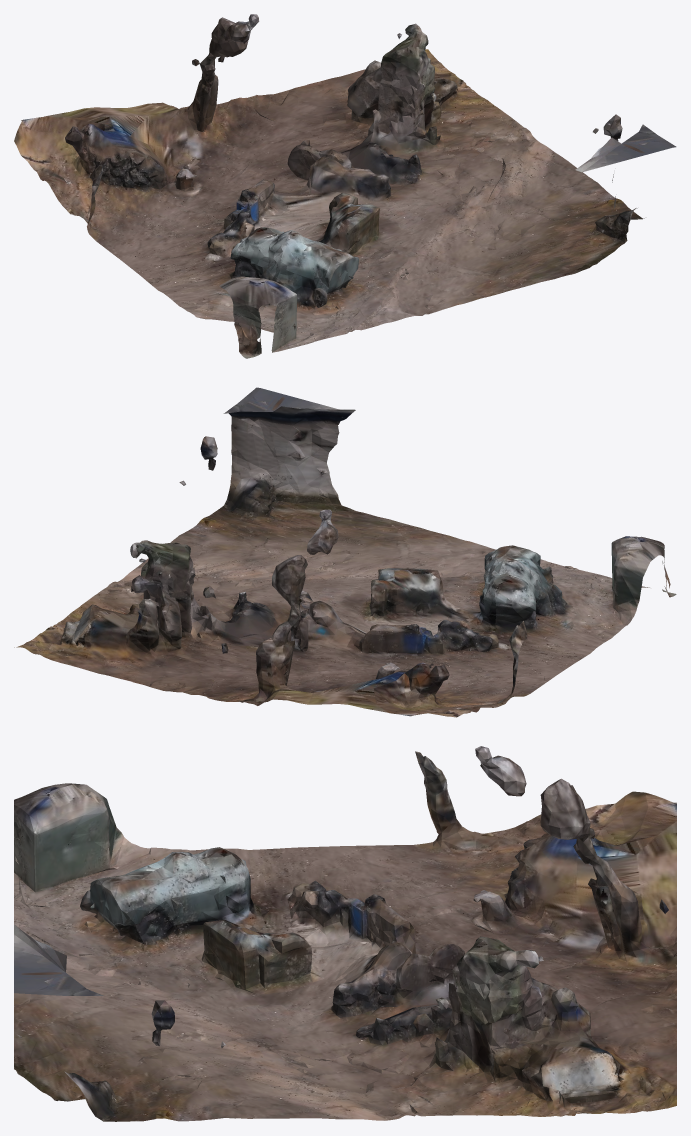
3 renders of one model, top to bottom at view 1: azimuth 30°, elevation 25°; view 2: azimuth 150°, elevation 25°; view 3: azimuth 270°, elevation 25°, orthographic. The views are drawn at different scales.
Bounding box in the file's own units: 20.89 × 7.95 × 20.89.
4 materials, 4 textured.
